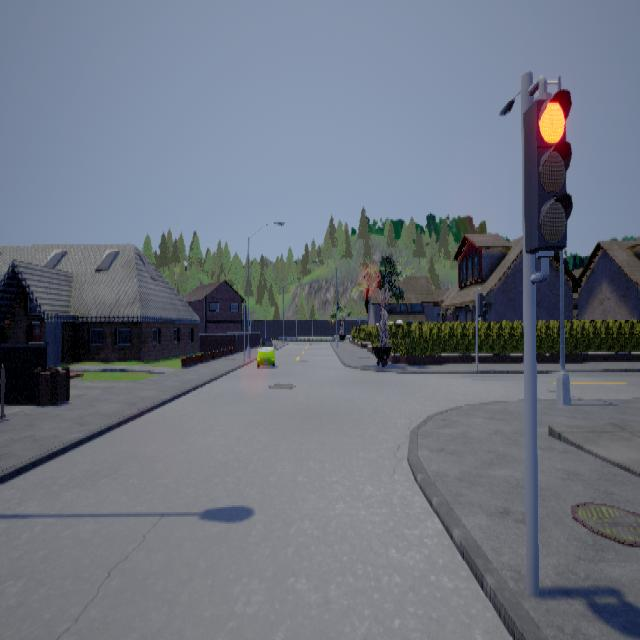red_light: (522, 74, 572, 283)
vehicle: (255, 335, 275, 367)
